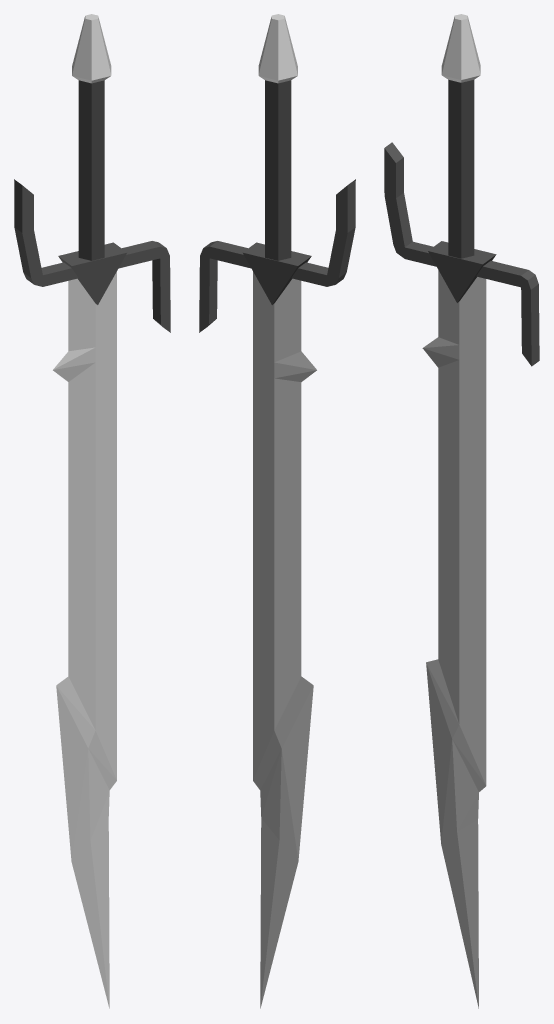
File: Char_GT_OneHandSword.FBX
3 renders of one model, left to right at view 1: azimuth 30°, elevation 25°; view 2: azimuth 150°, elevation 25°; view 3: azimuth 330°, elevation 25°, orthographic.
Parts seen in each view (by area): view 1: OneHandedSword; view 2: OneHandedSword; view 3: OneHandedSword.
Boxes of the visible parts, <box> form: OneHandedSword: <box>14,14,170,1008</box>; OneHandedSword: <box>199,14,355,1008</box>; OneHandedSword: <box>384,14,539,1008</box>.
Size of the model in its own units: 8.24 by 52.79 by 1.89.
